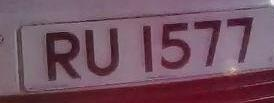1: (131, 16, 162, 80)
5: (155, 13, 196, 78)
7: (189, 12, 228, 73), (223, 12, 260, 69)
R: (38, 25, 86, 86)
U: (81, 22, 125, 83)
